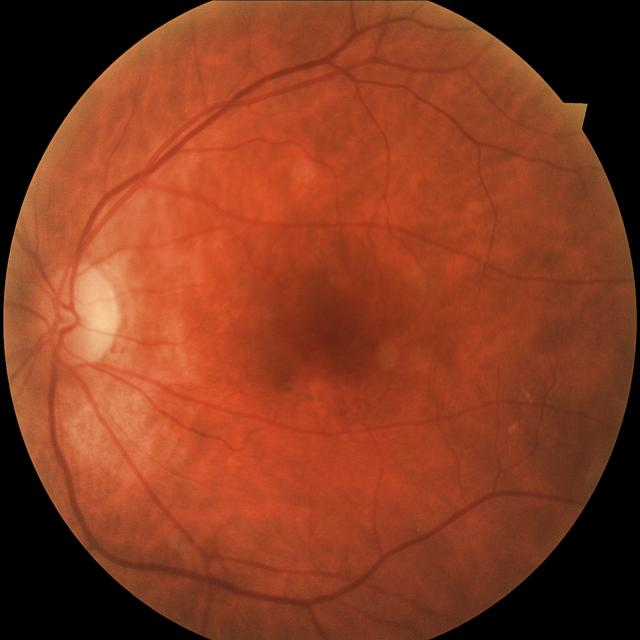OD: (31, 265, 118, 364)
